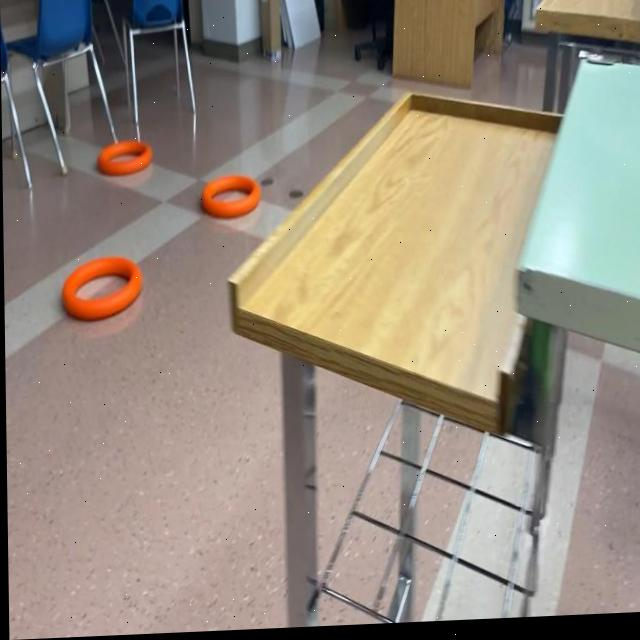note: (61, 254, 143, 326), (199, 172, 260, 227), (97, 136, 151, 180)
